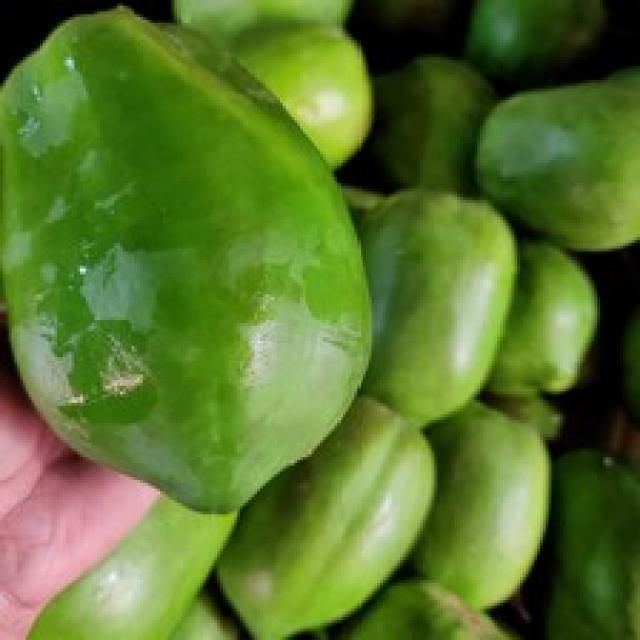Pepaya unrippen: (10, 10, 379, 520)
